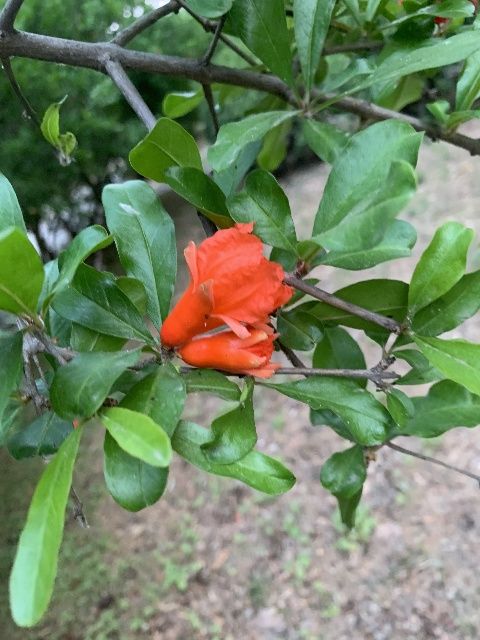flower: (161, 221, 292, 346), (177, 325, 284, 379)
